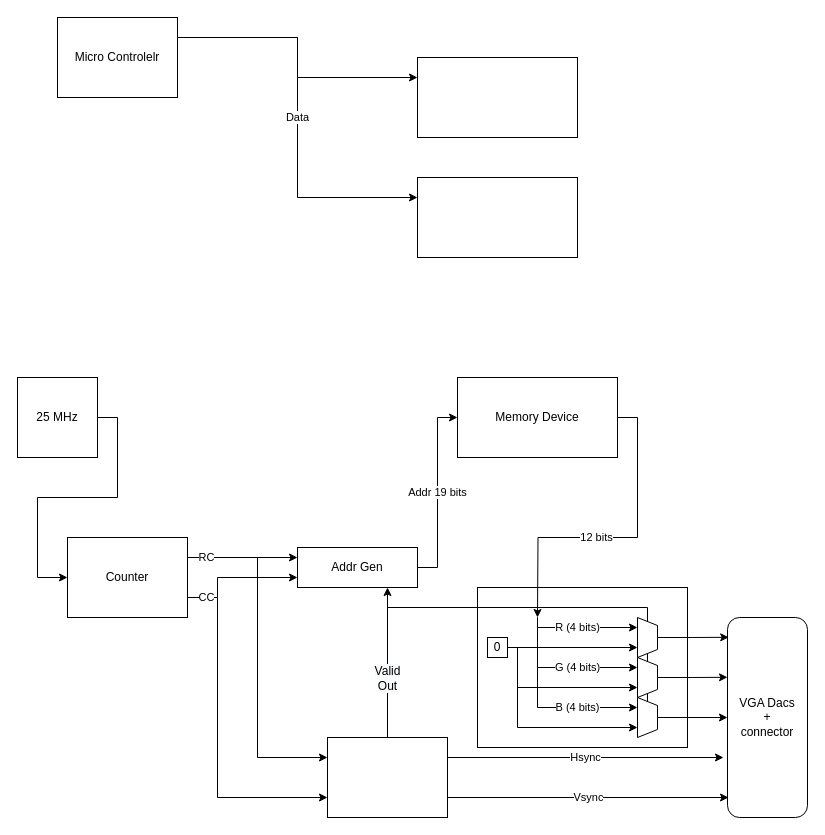
Image size: 825x835. Some labels were removed from this diagram. Here are the shapes that lost their labels. From the top down, the centre of each, then its label:
At [497,97]: "Block Ram 1 300k x 16".
At [497,217]: "Block Ram 2 300k x 16".
At [387,777]: "Sync Gen".
